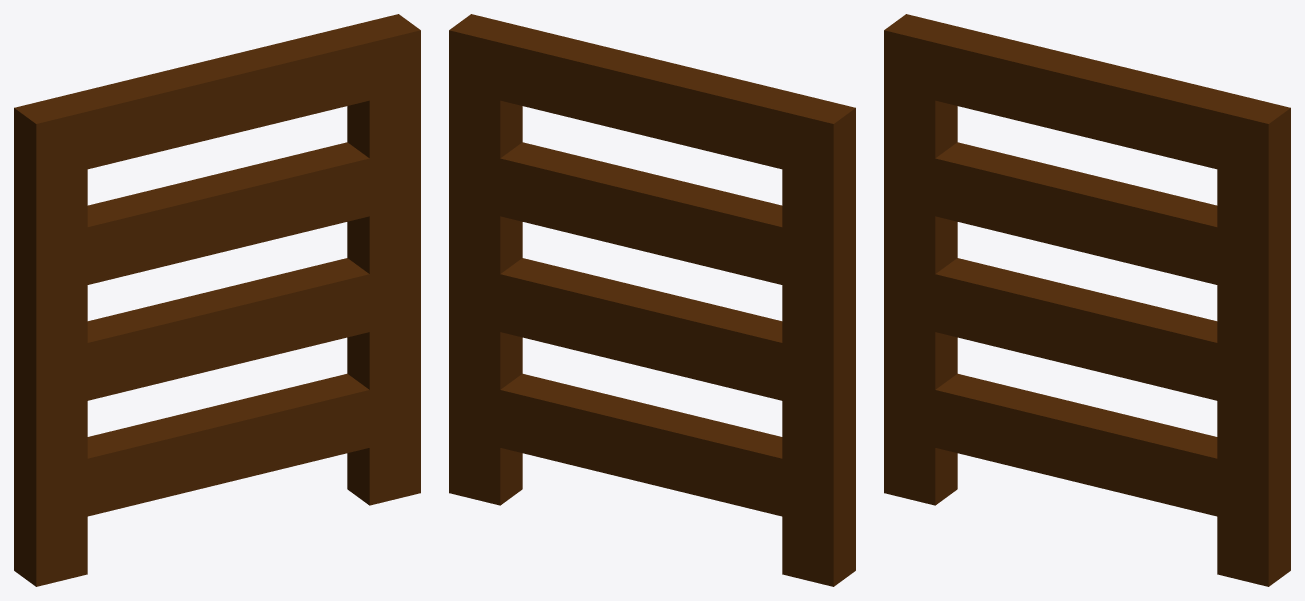
Rendered from casa3ventanaA.obj.
3 views of the same model, side by side, from view 1: azimuth 30°, elevation 25°; view 2: azimuth 150°, elevation 25°; view 3: azimuth 330°, elevation 25° (orthographic).
Parts seen in each view (by area): view 1: Ladder.014; view 2: Ladder.014; view 3: Ladder.014.
Part boxes in pixels (x1=…): Ladder.014: x1=14, y1=14, x2=420, y2=586; Ladder.014: x1=449, y1=14, x2=855, y2=586; Ladder.014: x1=884, y1=14, x2=1290, y2=586.
Size of the model in its own units: 2 by 2.3 by 0.2.
Materials: 1 (1 with a texture image).
